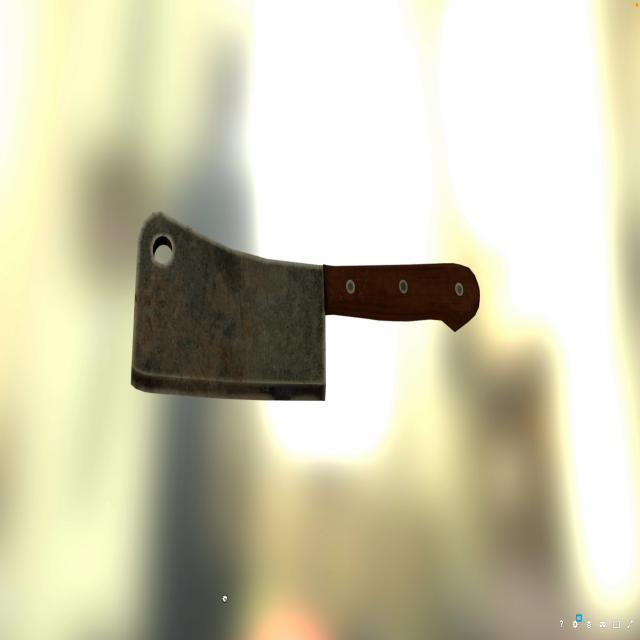cleaver: (134, 213, 478, 384)
